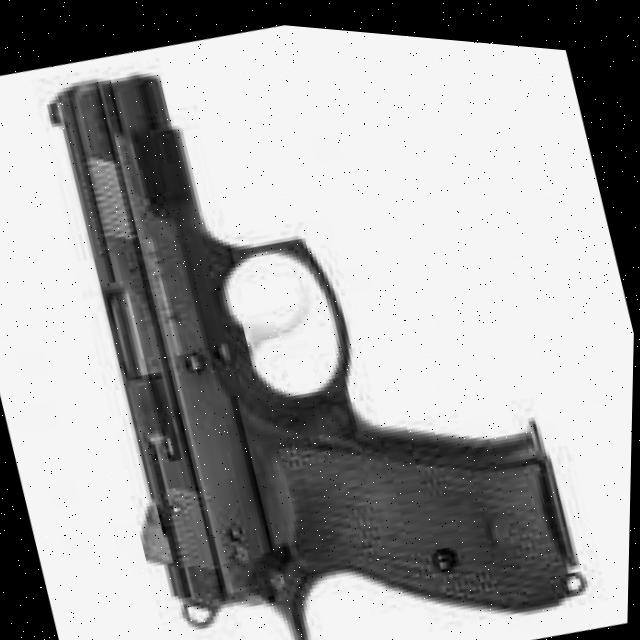gun: (46, 70, 588, 640)
